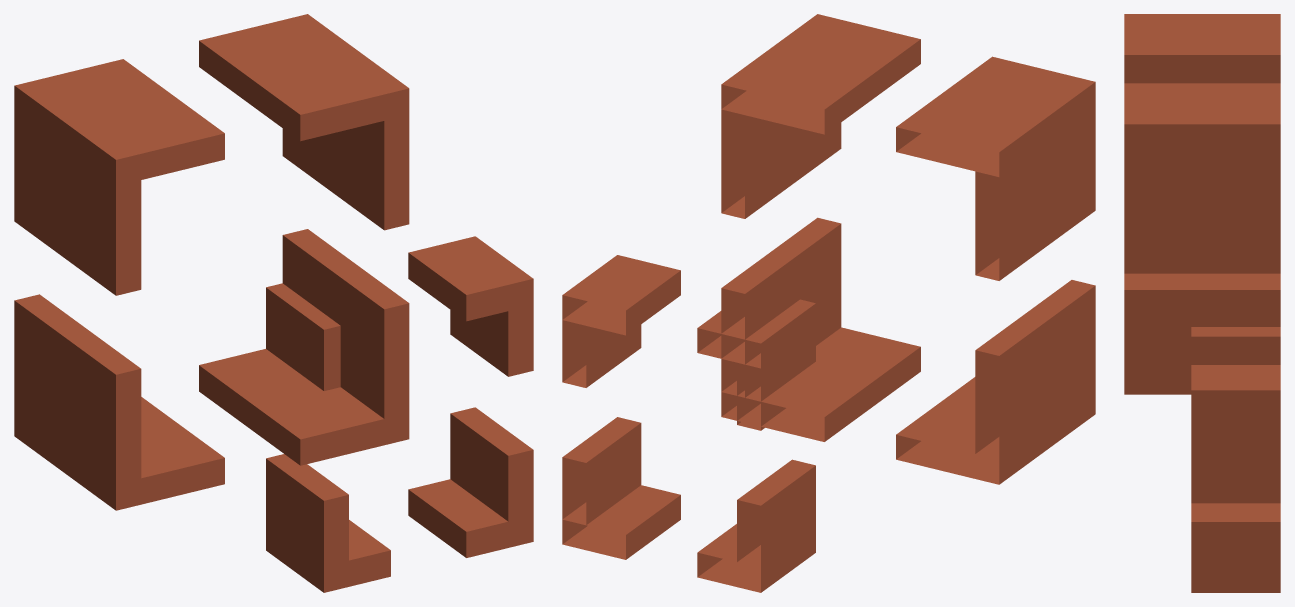
File: construction_1.glb
3 views of the same model, side by side, from view 1: azimuth 30°, elevation 25°; view 2: azimuth 150°, elevation 25°; view 3: azimuth 270°, elevation 25° (orthographic). The views are drawn at different scales.
Parts seen in each view (by area): view 1: c1; view 2: c1; view 3: c1.
Boxes of the visible parts, x1,y1,x2,y2 form: c1: [14, 14, 533, 592]; c1: [562, 14, 1095, 592]; c1: [1124, 14, 1280, 592].
Size of the model in its own units: 11 by 12 by 4.2.
